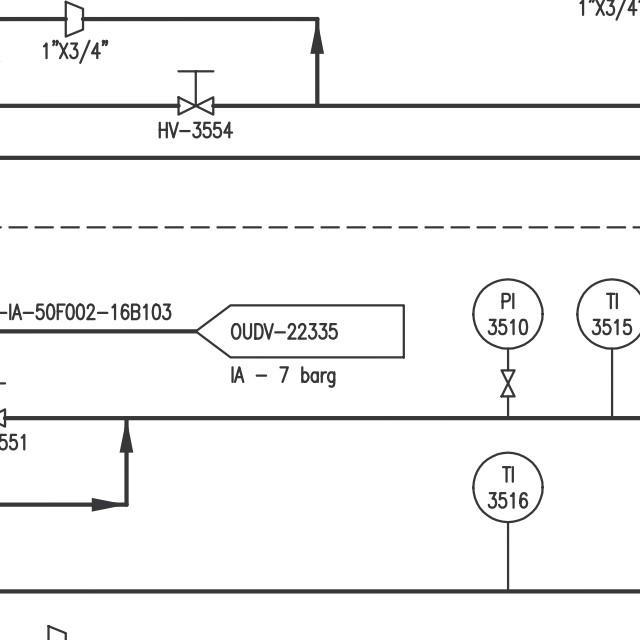GV: (497, 366, 521, 400)
HVWT: (170, 65, 219, 118)
SP: (60, 0, 88, 40)
